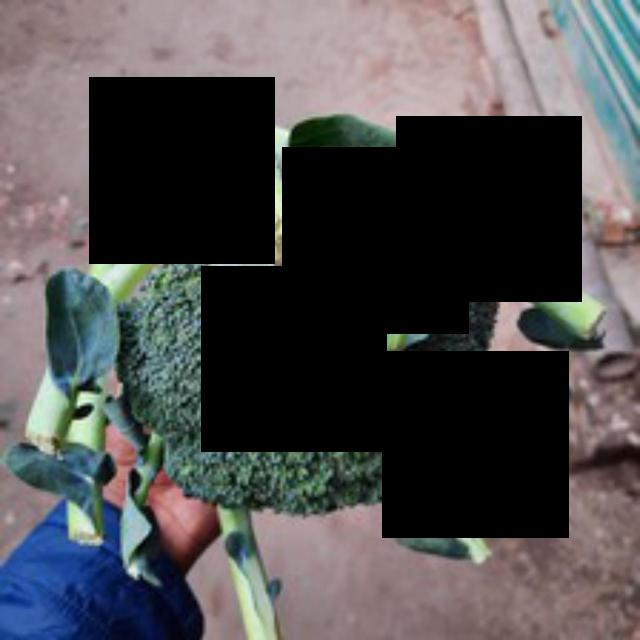broccoli: (109, 183, 496, 507)
